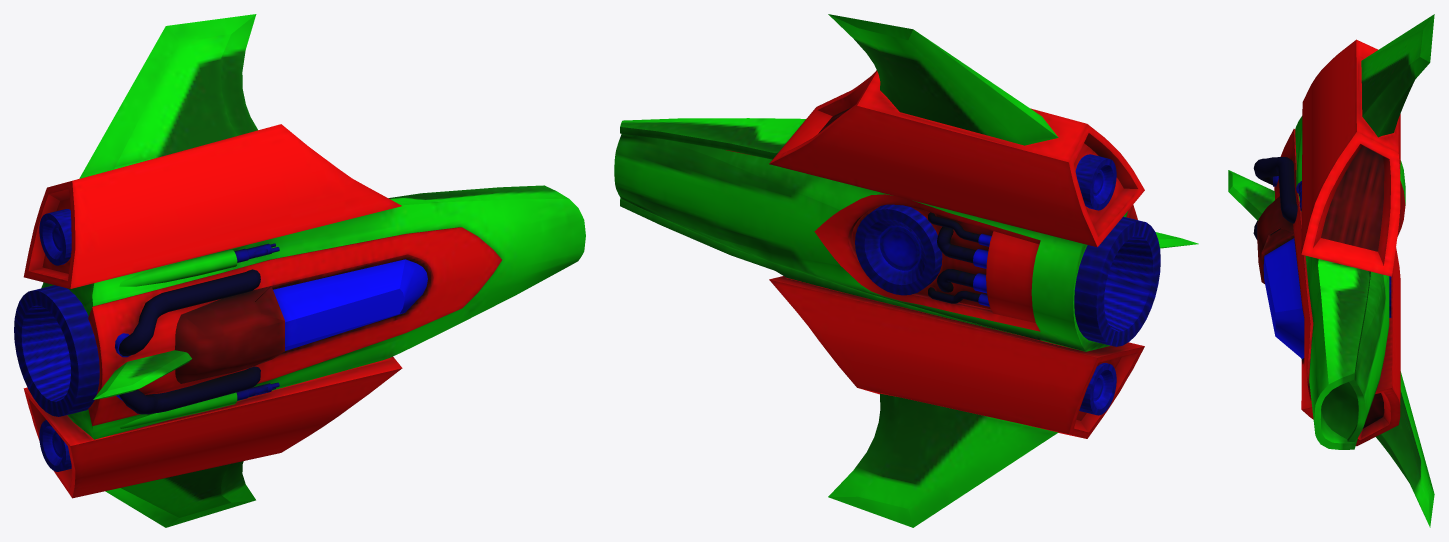
The model's file is glider8.glb.
3 renders of one model, left to right at view 1: azimuth 30°, elevation 25°; view 2: azimuth 150°, elevation 25°; view 3: azimuth 270°, elevation 25°, orthographic. The views are drawn at different scales.
Visible parts, largest first — view 1: Nave1_High_03 - Default Slot #2_0, Nave1_High_03 - Default Slot #3_0, Nave1_High_03 - Default Slot #1_0; view 2: Nave1_High_03 - Default Slot #2_0, Nave1_High_03 - Default Slot #3_0, Nave1_High_03 - Default Slot #1_0; view 3: Nave1_High_03 - Default Slot #2_0, Nave1_High_03 - Default Slot #3_0, Nave1_High_03 - Default Slot #1_0.
Part boxes in pixels (x1,y1,x2,y2): Nave1_High_03 - Default Slot #2_0: (23, 124, 501, 498); Nave1_High_03 - Default Slot #3_0: (41, 14, 585, 527); Nave1_High_03 - Default Slot #1_0: (14, 209, 427, 471); Nave1_High_03 - Default Slot #2_0: (726, 70, 1144, 438); Nave1_High_03 - Default Slot #3_0: (614, 14, 1198, 527); Nave1_High_03 - Default Slot #1_0: (855, 154, 1160, 415); Nave1_High_03 - Default Slot #2_0: (1257, 39, 1405, 446); Nave1_High_03 - Default Slot #3_0: (1228, 14, 1434, 527); Nave1_High_03 - Default Slot #1_0: (1253, 157, 1391, 358).
Size of the model in its own units: 2 by 1.78 by 0.693.
3 materials, 3 textured.
